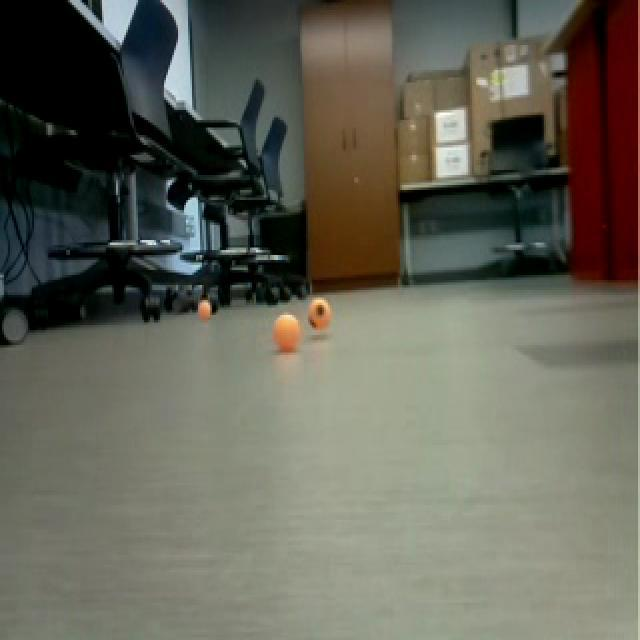oball: (306, 290, 340, 334), (273, 311, 304, 355), (192, 301, 220, 325)
